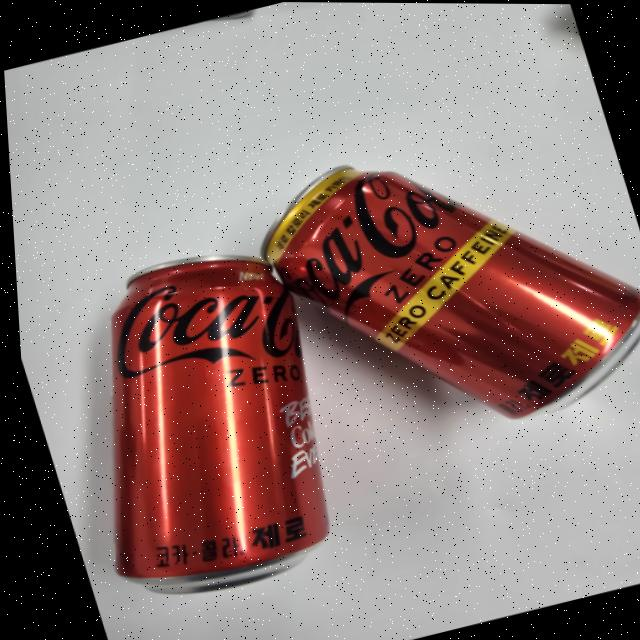can_coke_decaf: (253, 164, 640, 420)
can_coke_zero: (108, 255, 336, 600)
